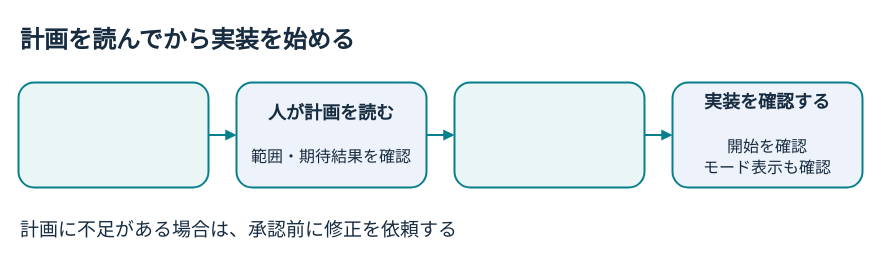
Image size: 880x269. Some labels were removed from this diagram. Here are the shapes that lost their labels. From the top down, the centre of each, then its label:
point (113, 134): Planで計画する 仕様と検査方法を示す
point (549, 134): 承認を送信する Approve and implement this plan
